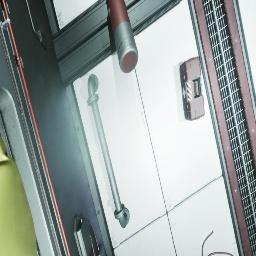FirstAidBox ,: (180, 56, 205, 121)
NitrogenTank ,: (106, 0, 138, 74)
